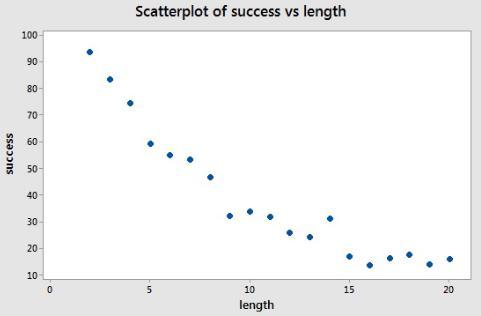axis: (40, 274, 473, 284), (37, 29, 48, 280)
point: (104, 74, 115, 85), (284, 227, 295, 238), (84, 47, 95, 57), (146, 139, 156, 150), (205, 172, 216, 182), (444, 254, 455, 264), (125, 98, 135, 108), (305, 231, 315, 241), (345, 252, 355, 262), (184, 155, 195, 164), (245, 207, 256, 216), (325, 214, 336, 223), (424, 260, 435, 269), (165, 151, 175, 160), (226, 211, 235, 221), (266, 212, 275, 222), (365, 261, 375, 270), (385, 254, 395, 263), (405, 249, 414, 259)
